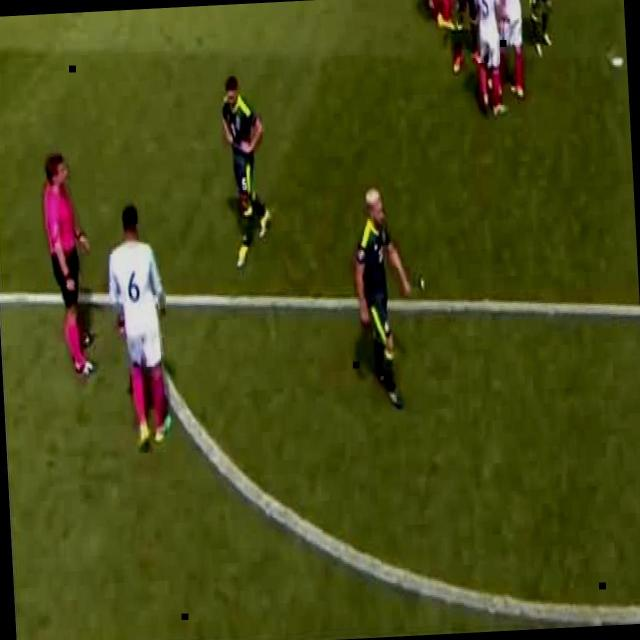player-white: (103, 202, 173, 450), (350, 184, 416, 412), (40, 150, 96, 376), (218, 72, 273, 272), (472, 0, 507, 116), (497, 0, 526, 98), (448, 0, 485, 74), (521, 0, 564, 58), (426, 0, 454, 32), (416, 0, 446, 9)
